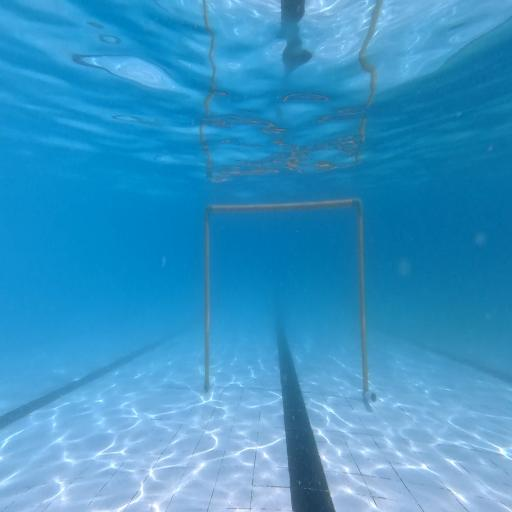gate: (204, 197, 376, 403)
